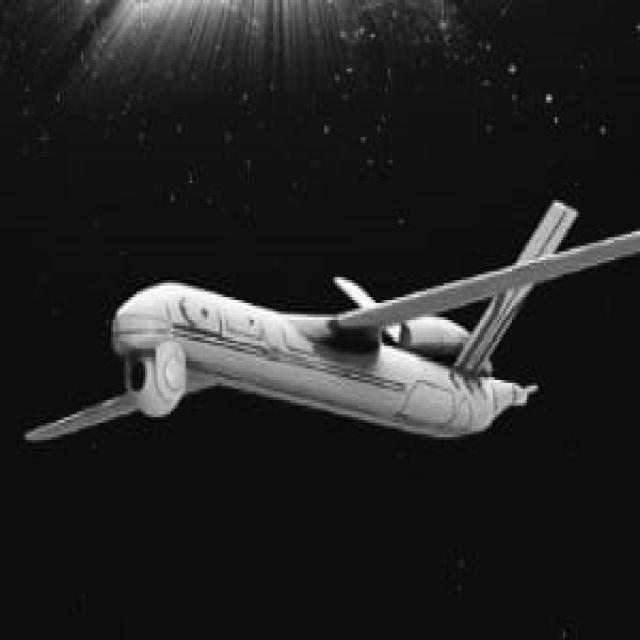iha: (26, 194, 638, 437)
